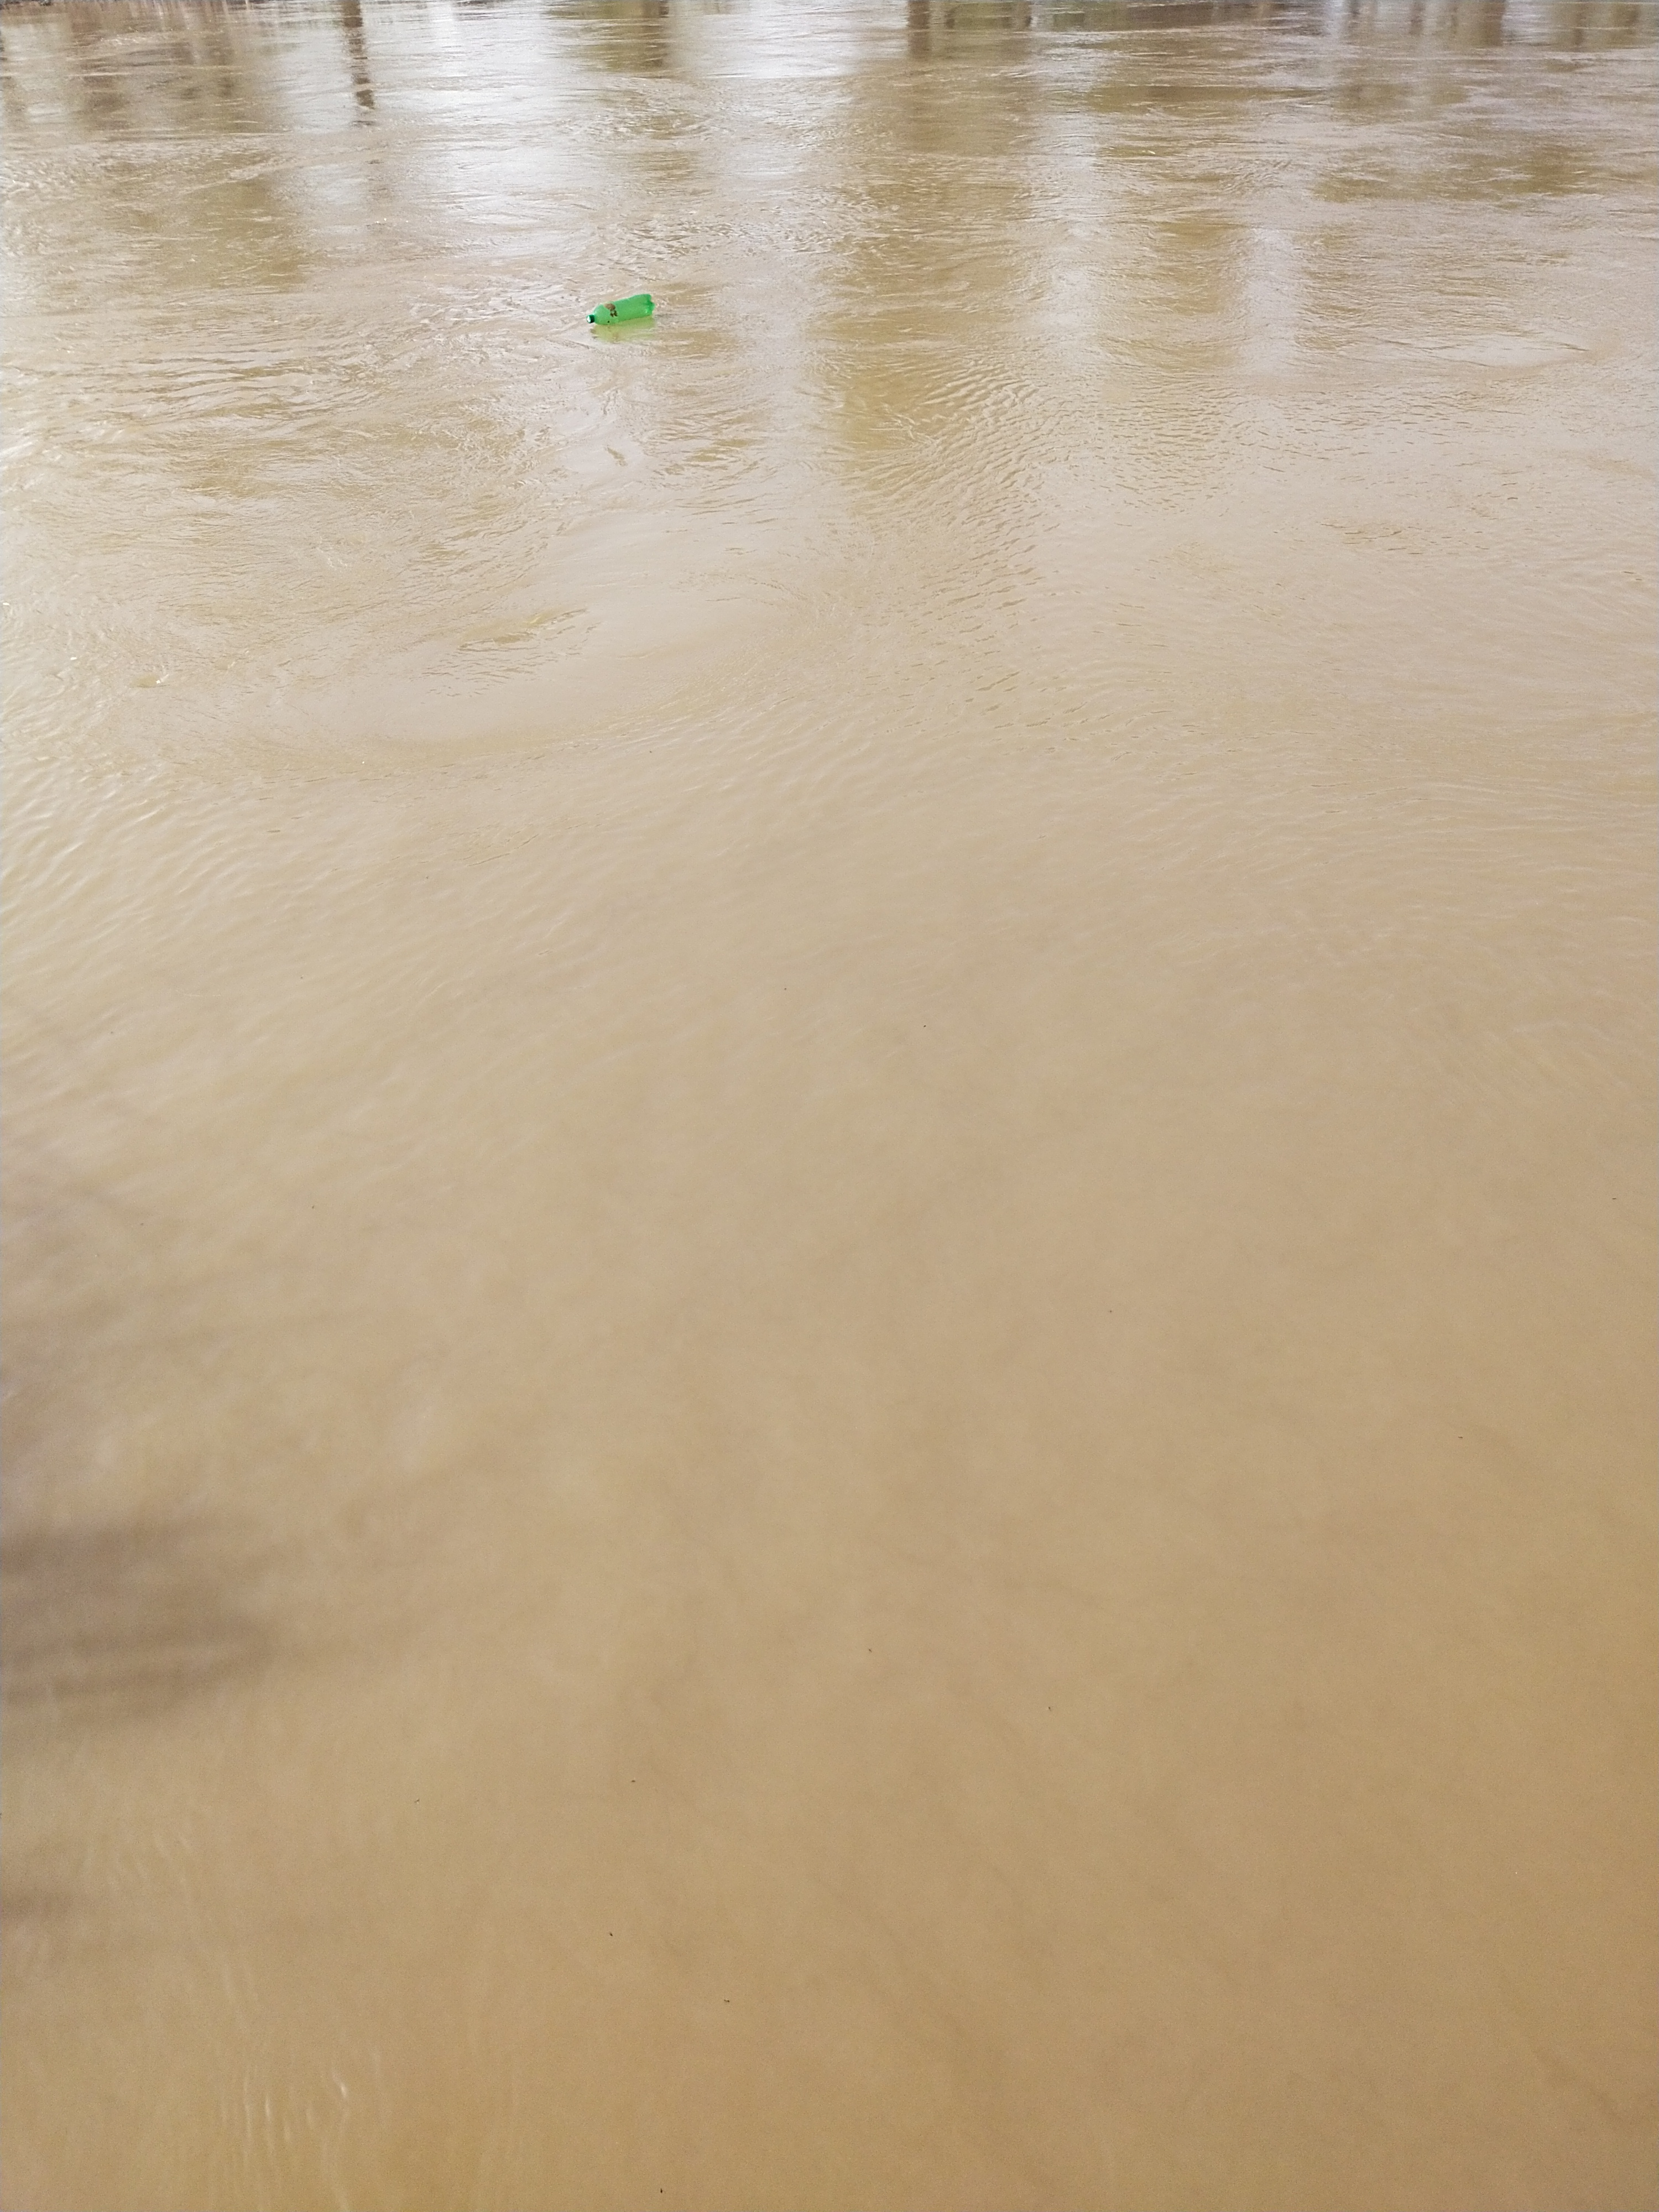Plastic Bottle: (586, 294, 655, 324)
